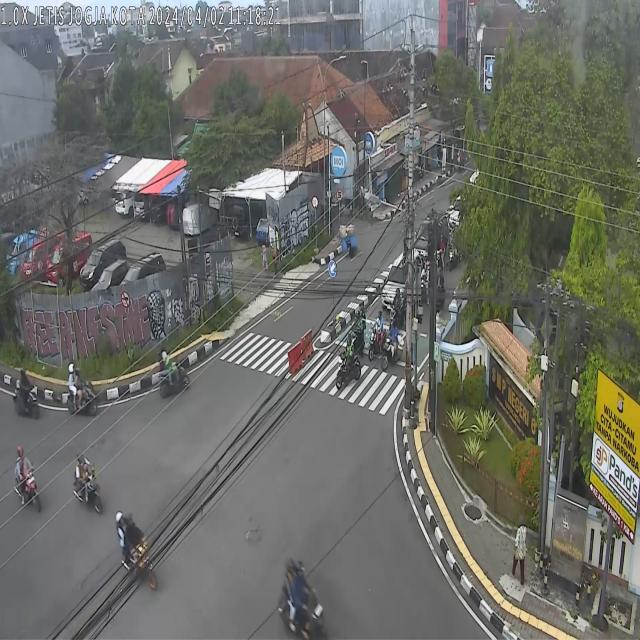car: (382, 249, 422, 313), (413, 211, 450, 266)
motorcycle: (276, 552, 328, 640), (114, 508, 161, 596), (74, 448, 106, 516), (11, 446, 43, 512), (64, 364, 98, 418), (156, 348, 192, 399), (12, 366, 41, 420), (334, 334, 360, 390), (381, 320, 406, 372), (351, 307, 367, 360), (370, 312, 385, 361), (389, 287, 404, 332), (420, 258, 431, 306), (435, 230, 446, 273), (447, 226, 458, 269)
